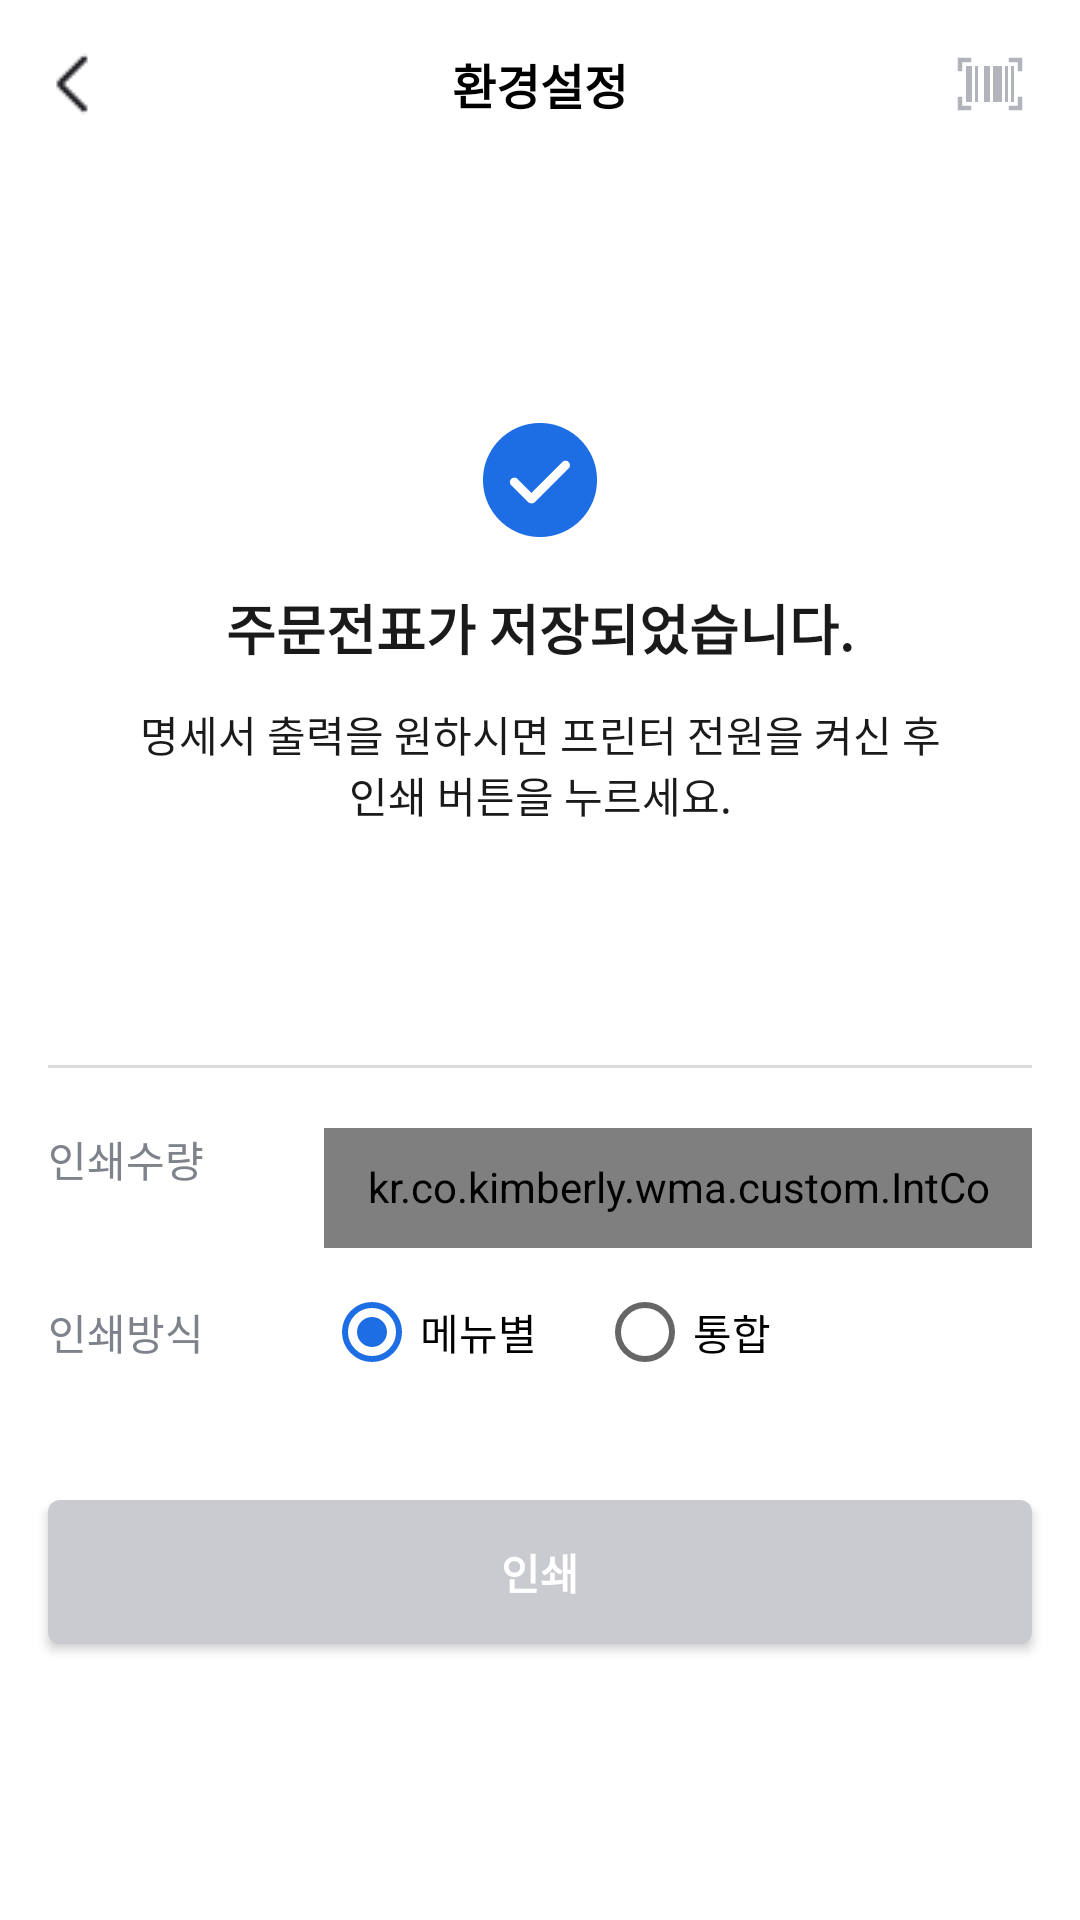

Where icons sit on this 1080×1920 app screen, as (x1, y1, x2, y2):
arrow back: (56, 55, 88, 113)
check circle: (483, 423, 597, 537)
scan: (958, 58, 1022, 110)
